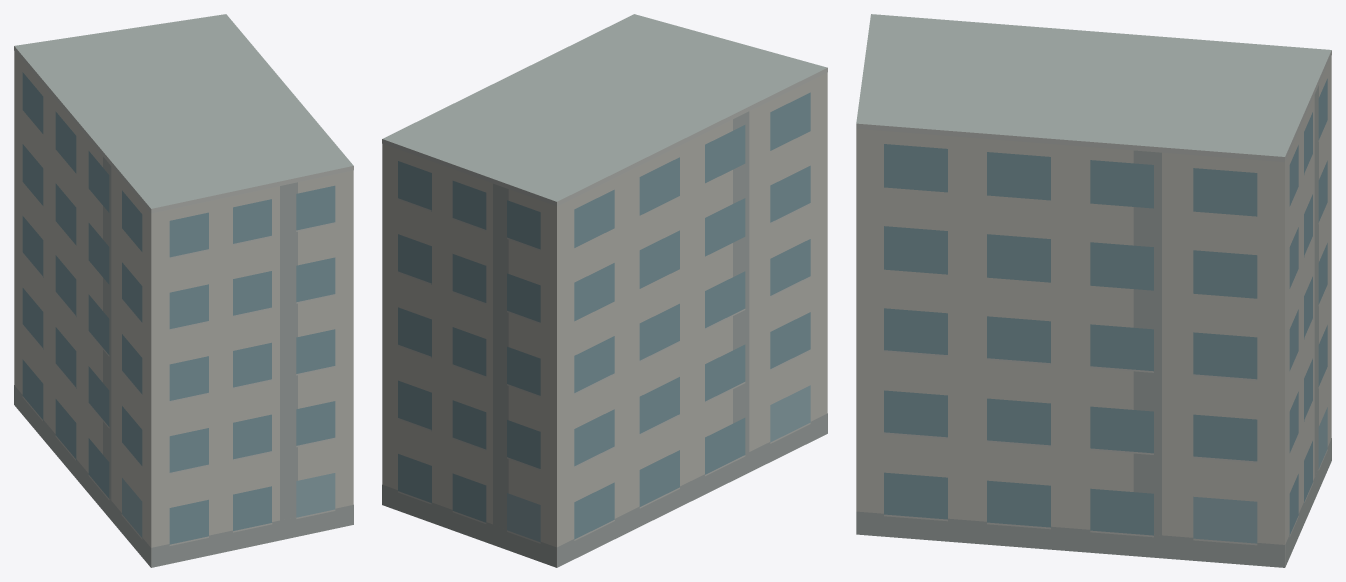
File: survey-upis-32616307.glb
3 views of the same model, side by side, from view 1: azimuth 30°, elevation 25°; view 2: azimuth 150°, elevation 25°; view 3: azimuth 270°, elevation 25° (orthographic). The views are drawn at different scales.
Parts seen in each view (by area): view 1: survey-upis-32616307.tmp; view 2: survey-upis-32616307.tmp; view 3: survey-upis-32616307.tmp.
Boxes of the visible parts, x1,y1,x2,y2 form: survey-upis-32616307.tmp: (14, 14, 353, 567); survey-upis-32616307.tmp: (382, 14, 827, 567); survey-upis-32616307.tmp: (856, 14, 1331, 567).
Bounding box in the file's own units: 14.23 × 19.05 × 19.99.
